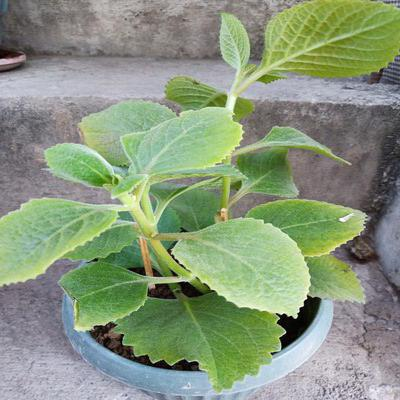Oregano: (37, 95, 377, 388)
